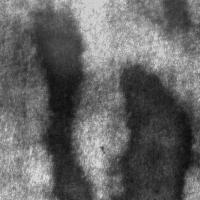patches: (0, 0, 117, 131), (27, 4, 92, 200), (114, 62, 196, 200), (20, 0, 152, 67), (80, 0, 200, 66), (163, 1, 194, 29)
